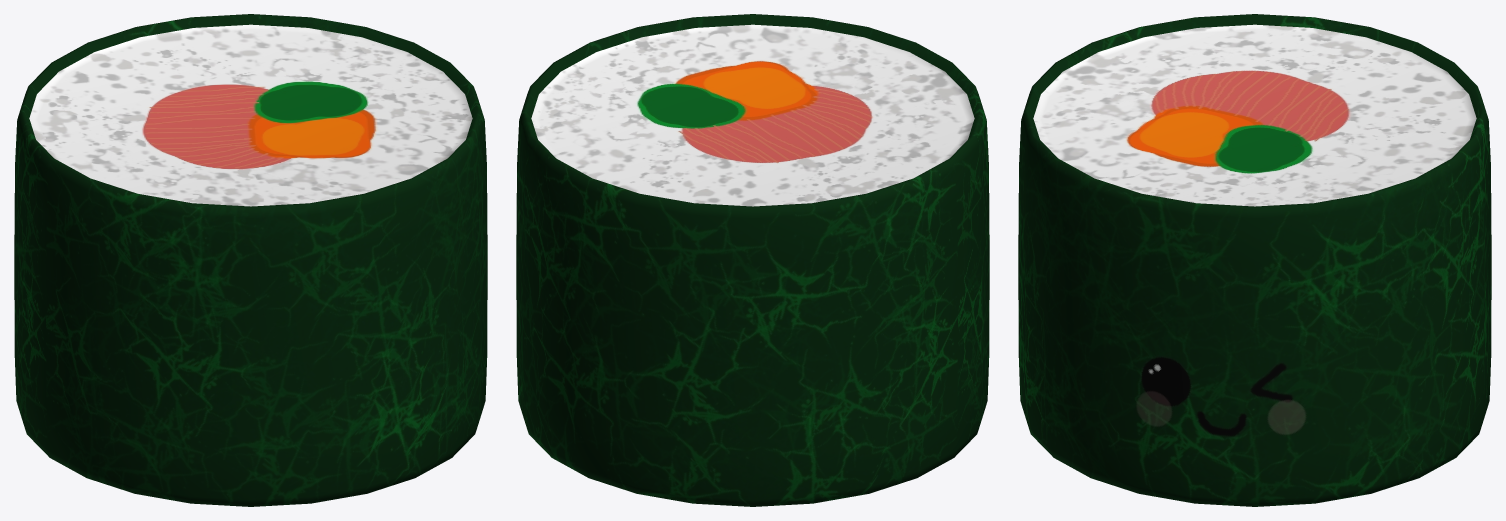
Rendered from maki fbx- pozitivni lik.fbx.
The picture shows the model from 3 angles, left to right: view 1: azimuth 30°, elevation 25°; view 2: azimuth 150°, elevation 25°; view 3: azimuth 270°, elevation 25°; orthographic projection.
Parts seen in each view (by area): view 1: maki sushi; view 2: maki sushi; view 3: maki sushi.
Boxes of the visible parts, x1,y1,x2,y2 form: maki sushi: [14, 14, 487, 506]; maki sushi: [516, 14, 989, 506]; maki sushi: [1018, 14, 1491, 506].
Size of the model in its own units: 27.34 by 19.05 by 27.34.
1 material, 1 textured.
